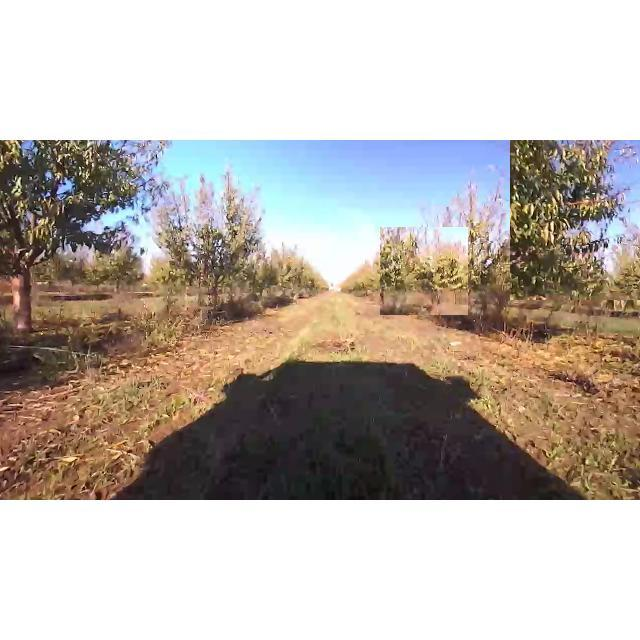tree: (0, 140, 178, 338), (510, 140, 640, 300), (154, 161, 270, 327), (437, 173, 525, 334), (380, 227, 468, 315)
